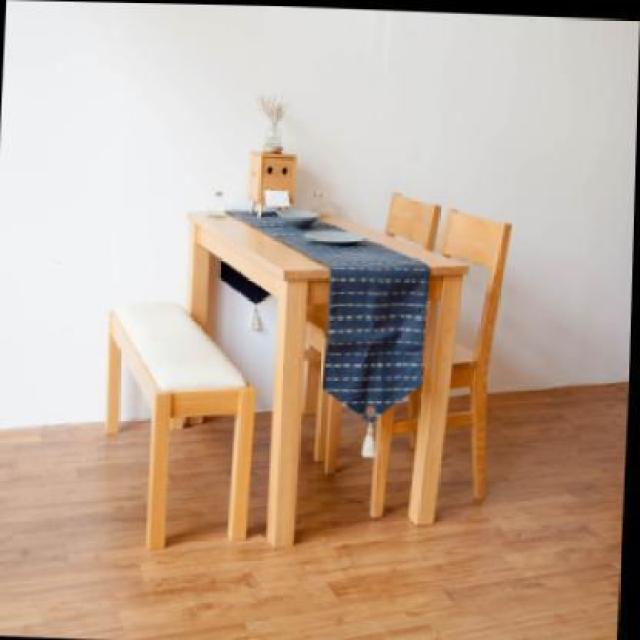tables: (186, 206, 471, 548)
